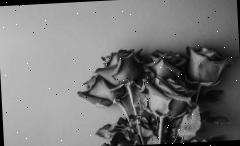organic: (74, 35, 240, 146), (82, 40, 228, 110), (182, 105, 210, 142)
